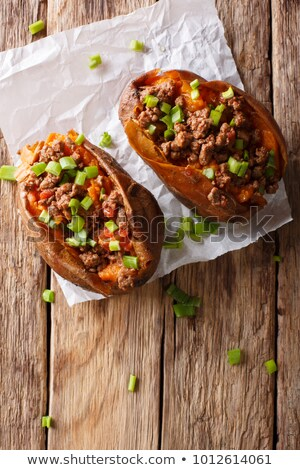ground_beef: (128, 72, 286, 216), (26, 135, 143, 289)
